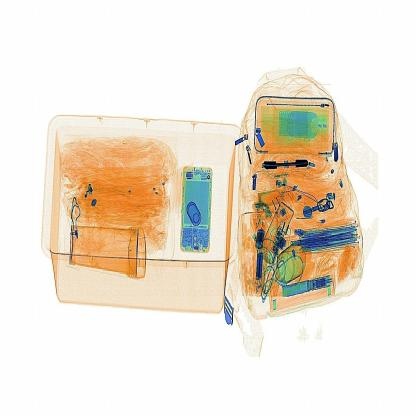knife: (259, 152, 315, 182)
